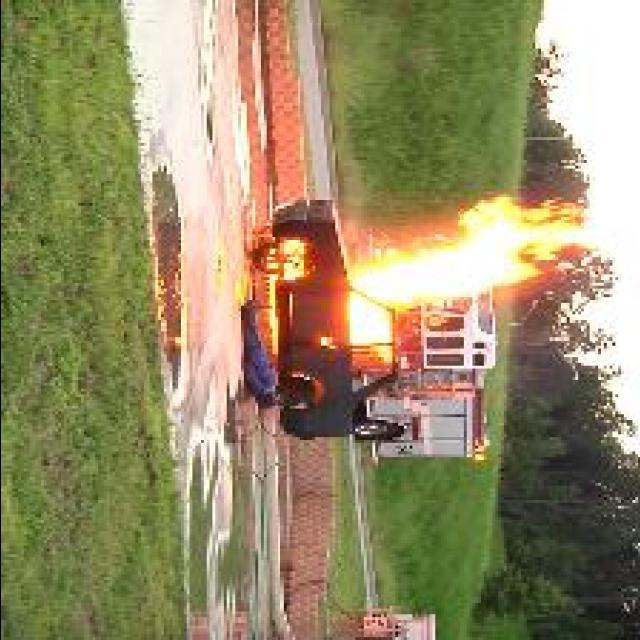Fire: (348, 194, 586, 360)
